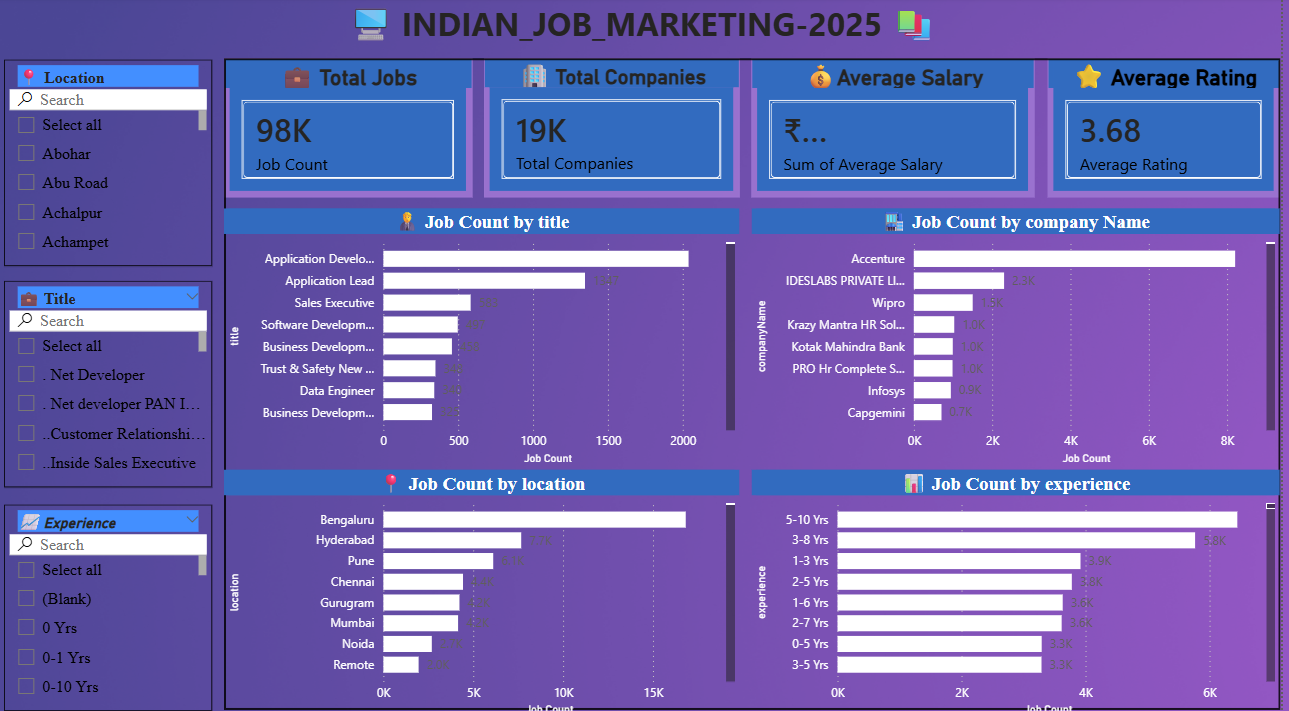

What the dashboard file says about the page in this screenshot:
{"tool":"tableau","page":{"name":"Dashboard 1","canvas":[1000,1000],"units":"permille","ordinal":0},"visuals":[{"type":"title","box":[4.8,9.4,990.3,77.6]},{"type":"worksheet","title":"Total Jobs","mark":"Automatic","box":[4.8,87,247.6,92.8]},{"type":"worksheet","title":"Total Companies","mark":"Automatic","box":[252.4,87,247.6,92.8]},{"type":"worksheet","title":"Average Salary","mark":"Automatic","box":[500,87,247.6,92.8]},{"type":"worksheet","title":"Average Rating","mark":"Automatic","box":[747.6,87,247.6,92.8]},{"type":"worksheet","title":"Top 10 Jobs","mark":"Automatic","rows":["title"],"cols":["jobid"],"box":[4.8,179.8,495.2,400.7]},{"type":"worksheet","title":"Top 10 Companies","mark":"Automatic","rows":["companyname"],"cols":["jobid"],"box":[500,179.8,495.2,400.7]},{"type":"worksheet","title":"Job By Experience","mark":"Automatic","rows":["experience"],"cols":["jobid"],"box":[4.8,580.5,495.5,410.1]},{"type":"worksheet","title":"Top 10 Locations","mark":"Automatic","rows":["location"],"cols":["jobid"],"box":[500.3,580.5,494.9,410.1]}]}

Visuals, with their boxes on the dashboard's canvas, which has no fixed pixel size, in thousandths of its width and height (x1, y1, x2, y2). These are canvas units, not pixel positions in the 1289x711 screenshot, which may show the page scaled, cropped or inside an application window:
title: <bbox>5, 9, 995, 87</bbox>
"Total Jobs" worksheet: <bbox>5, 87, 252, 180</bbox>
"Total Companies" worksheet: <bbox>252, 87, 500, 180</bbox>
"Average Salary" worksheet: <bbox>500, 87, 748, 180</bbox>
"Average Rating" worksheet: <bbox>748, 87, 995, 180</bbox>
"Top 10 Jobs" worksheet: <bbox>5, 180, 500, 580</bbox>
"Top 10 Companies" worksheet: <bbox>500, 180, 995, 580</bbox>
"Job By Experience" worksheet: <bbox>5, 580, 500, 991</bbox>
"Top 10 Locations" worksheet: <bbox>500, 580, 995, 991</bbox>
